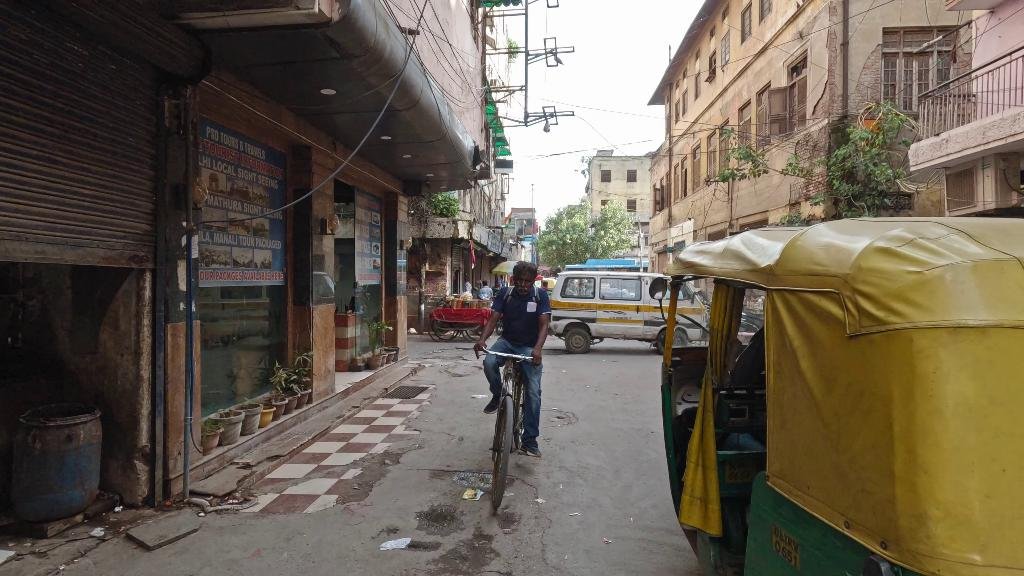garbage: (378, 537, 412, 551), (463, 485, 482, 501)
